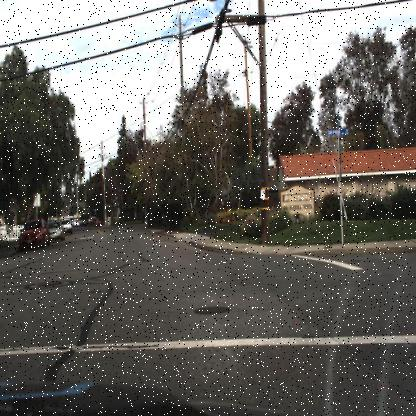car: (17, 218, 51, 246), (47, 219, 66, 247), (47, 218, 67, 244)
